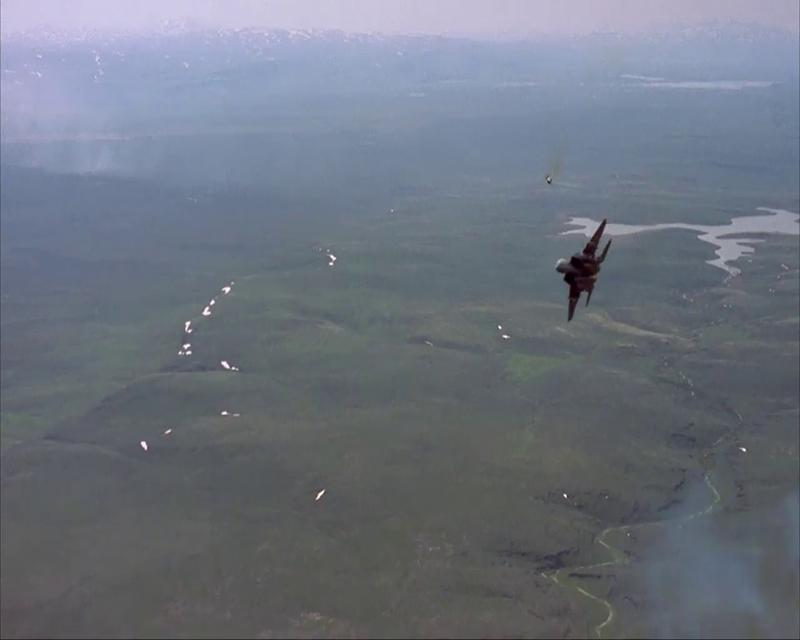UAV: (553, 215, 613, 322)
